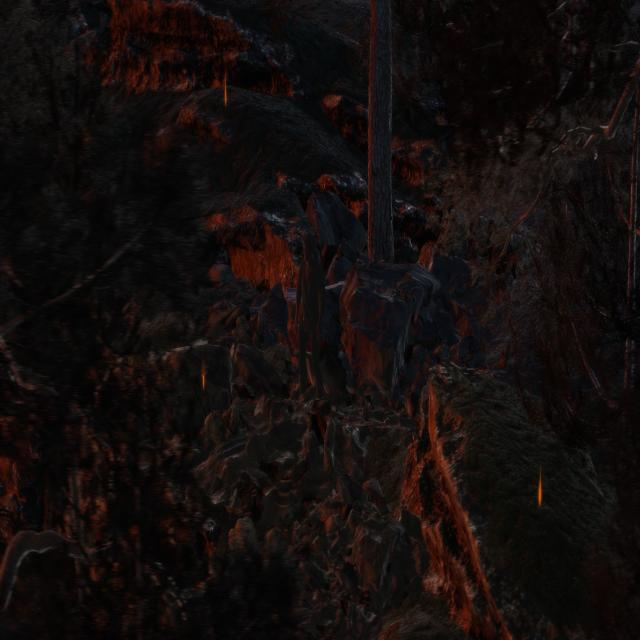Human: (285, 222, 341, 420)
